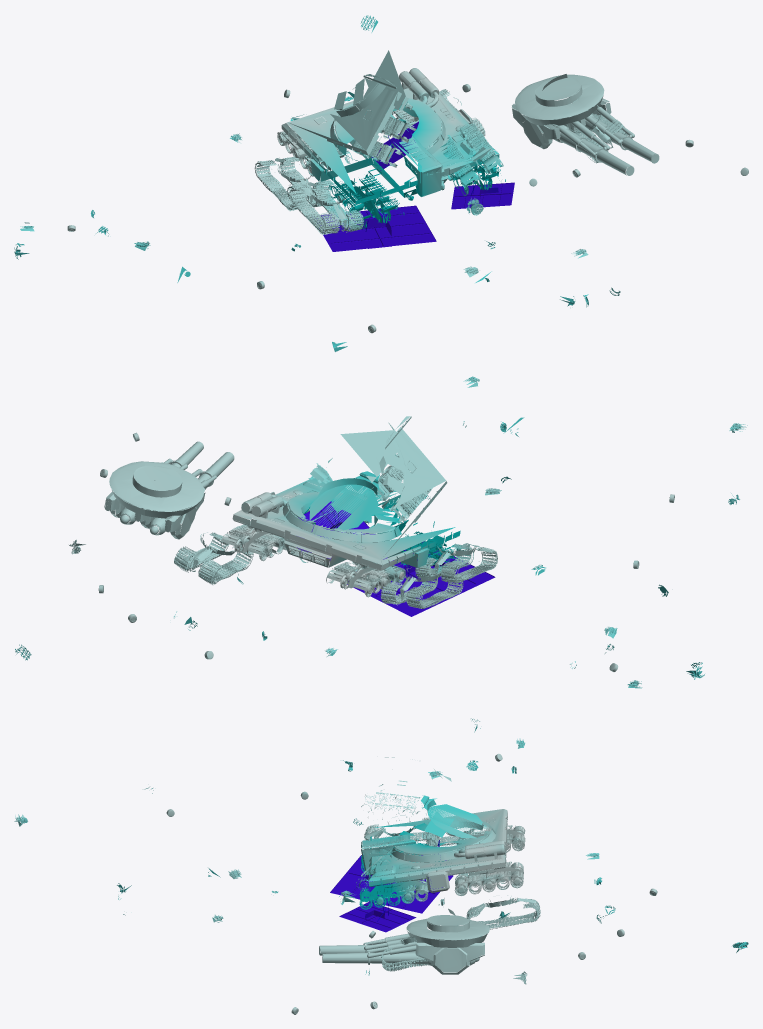
The model's file is mog_wreck.glb.
3 renders of one model, top to bottom at view 1: azimuth 30°, elevation 25°; view 2: azimuth 150°, elevation 25°; view 3: azimuth 270°, elevation 25°, orthographic. The views are drawn at different scales.
Parts seen in each view (by area): view 1: MOG_Body, MOG_Body_plate (×2), Mog_Turret, frame (×2), wrecked_track_r0, wrecked_track_r1, Mog_Guns, wrecked_track_l0; view 2: MOG_Body, MOG_Body_plate (×2), Mog_Turret, frame (×2), wrecked_track_l1, wrecked_track_r1, wrecked_track_r0, Mog_Guns; view 3: MOG_Body, Mog_Turret, frame (×2), MOG_Body_plate (×2), Mog_Guns, wrecked_track_l1, wrecked_track_r0, wrecked_track_l0.
Boxes of the visible parts, bbox=[...] form: MOG_Body: bbox=[277, 68, 505, 229]; MOG_Body_plate (×2): bbox=[290, 50, 503, 189]; Mog_Turret: bbox=[512, 74, 619, 152]; frame (×2): bbox=[317, 182, 514, 251]; wrecked_track_r0: bbox=[287, 180, 363, 234]; wrecked_track_r1: bbox=[254, 157, 331, 211]; Mog_Guns: bbox=[577, 123, 659, 175]; wrecked_track_l0: bbox=[553, 96, 628, 163]; MOG_Body: bbox=[221, 478, 460, 597]; MOG_Body_plate (×2): bbox=[309, 416, 447, 556]; Mog_Turret: bbox=[104, 461, 208, 539]; frame (×2): bbox=[298, 501, 495, 616]; wrecked_track_l1: bbox=[174, 532, 253, 584]; wrecked_track_r1: bbox=[380, 564, 463, 608]; wrecked_track_r0: bbox=[415, 541, 497, 583]; Mog_Guns: bbox=[164, 441, 234, 489]; MOG_Body: bbox=[359, 809, 525, 909]; Mog_Turret: bbox=[386, 908, 489, 974]; frame (×2): bbox=[330, 855, 453, 932]; MOG_Body_plate (×2): bbox=[361, 757, 486, 838]; Mog_Guns: bbox=[319, 938, 399, 964]; wrecked_track_l1: bbox=[466, 895, 540, 929]; wrecked_track_r0: bbox=[364, 815, 437, 854]; wrecked_track_l0: bbox=[381, 936, 428, 971].
Size of the model in its own units: 78.15 by 18.44 by 84.69.
